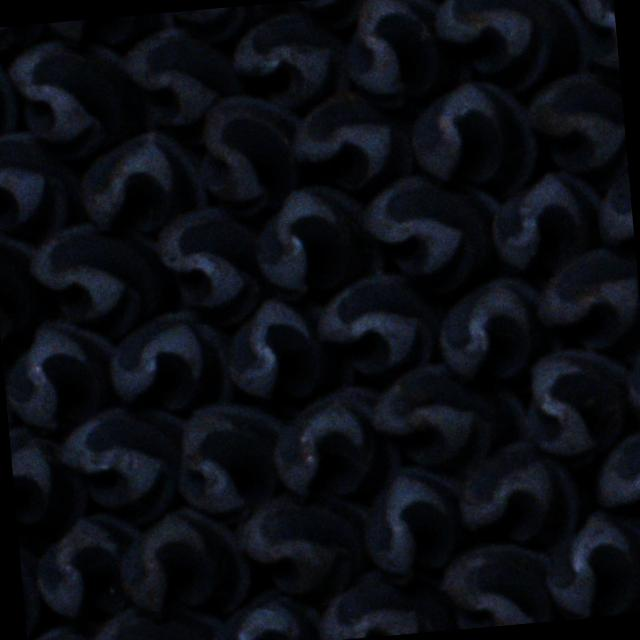tool_b: (25, 212, 184, 344), (369, 356, 527, 480), (360, 167, 510, 296), (4, 33, 147, 164), (58, 400, 194, 529), (250, 178, 388, 304), (404, 76, 540, 203), (114, 500, 250, 623), (234, 484, 374, 602), (154, 206, 282, 332), (431, 0, 594, 98), (266, 384, 402, 500), (172, 398, 296, 524), (517, 343, 640, 469), (220, 292, 354, 406), (194, 89, 308, 222), (73, 126, 208, 238), (288, 85, 418, 196), (342, 0, 473, 110), (434, 274, 562, 386), (453, 436, 580, 548), (358, 463, 471, 588), (1, 316, 120, 434), (105, 306, 236, 413), (314, 270, 444, 375), (121, 22, 248, 128), (524, 68, 630, 194), (534, 244, 640, 369), (30, 508, 148, 619), (229, 8, 352, 111), (486, 168, 604, 272), (538, 503, 640, 621), (311, 562, 454, 640), (435, 543, 555, 631), (0, 127, 83, 236), (8, 423, 88, 535), (0, 220, 62, 350), (205, 582, 335, 640), (83, 594, 224, 640), (589, 427, 640, 547)
